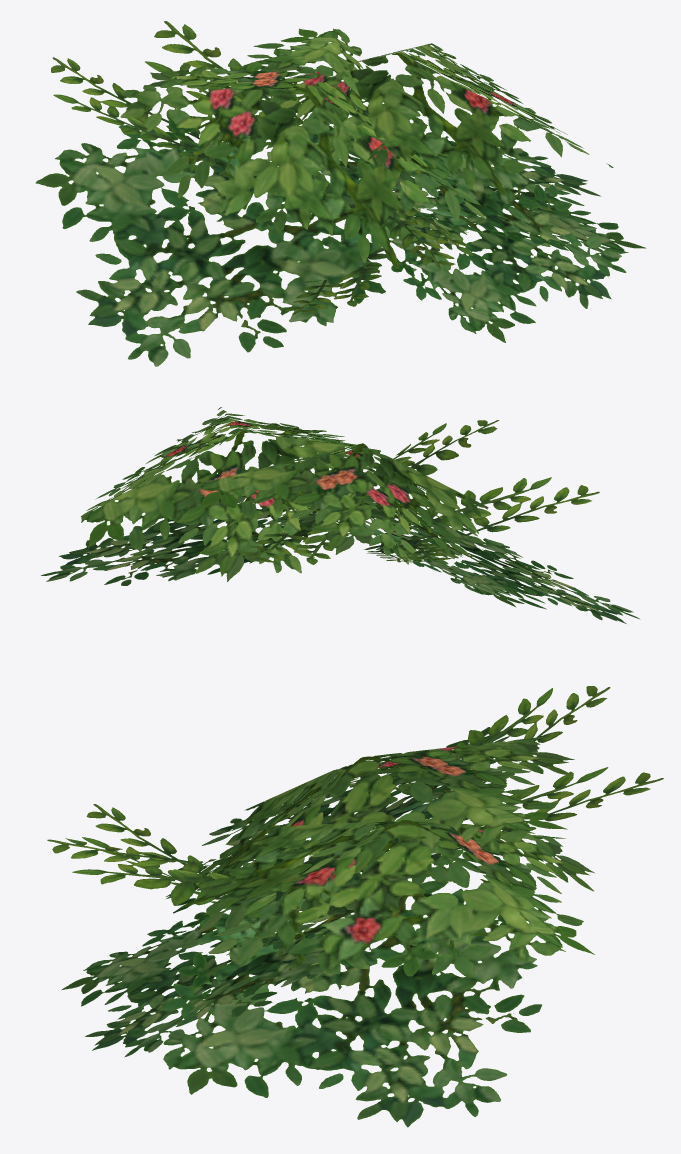
Rendered from zc_suzhou_guanmu01.FBX.
The picture shows the model from 3 angles, top to bottom: view 1: azimuth 30°, elevation 25°; view 2: azimuth 150°, elevation 25°; view 3: azimuth 270°, elevation 25°; orthographic projection. The views are drawn at different scales.
Parts seen in each view (by area): view 1: zc_suzhou_guanmu01; view 2: zc_suzhou_guanmu01; view 3: zc_suzhou_guanmu01.
Boxes of the visible parts, bbox=[...] form: zc_suzhou_guanmu01: bbox=[35, 21, 646, 366]; zc_suzhou_guanmu01: bbox=[41, 407, 640, 623]; zc_suzhou_guanmu01: bbox=[47, 686, 663, 1127].
Bounding box in the file's own units: 221 × 66.65 × 190.
